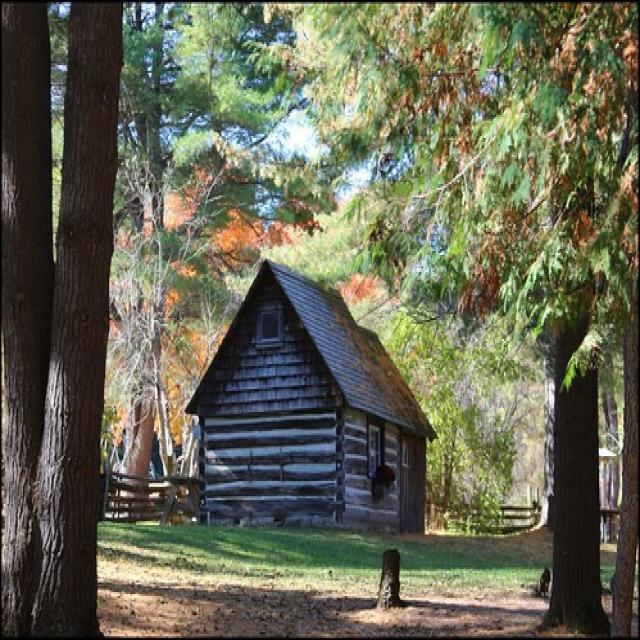building: (180, 253, 436, 544)
